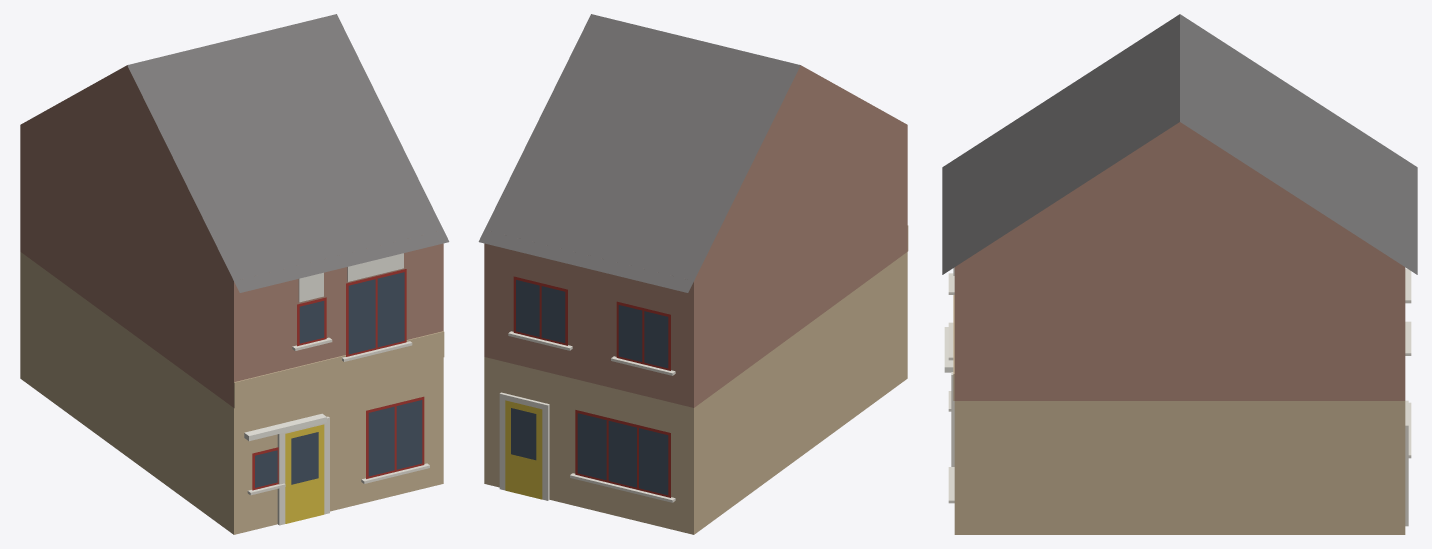
The model's file is zo-rb-two-tone__tefelen__2__gable__long__solid.glb.
3 views of the same model, side by side, from view 1: azimuth 30°, elevation 25°; view 2: azimuth 150°, elevation 25°; view 3: azimuth 270°, elevation 25° (orthographic). The views are drawn at different scales.
Visible parts, largest first — view 1: zo-rb-two-tone__tefelen__2__gable__long__solid; view 2: zo-rb-two-tone__tefelen__2__gable__long__solid; view 3: zo-rb-two-tone__tefelen__2__gable__long__solid.
Boxes of the visible parts, left/top/right/bottom form: zo-rb-two-tone__tefelen__2__gable__long__solid: left=20, top=14, right=449, bottom=534; zo-rb-two-tone__tefelen__2__gable__long__solid: left=478, top=14, right=908, bottom=534; zo-rb-two-tone__tefelen__2__gable__long__solid: left=942, top=14, right=1417, bottom=534.
Size of the model in its own units: 5.1 by 9.1 by 9.5.
